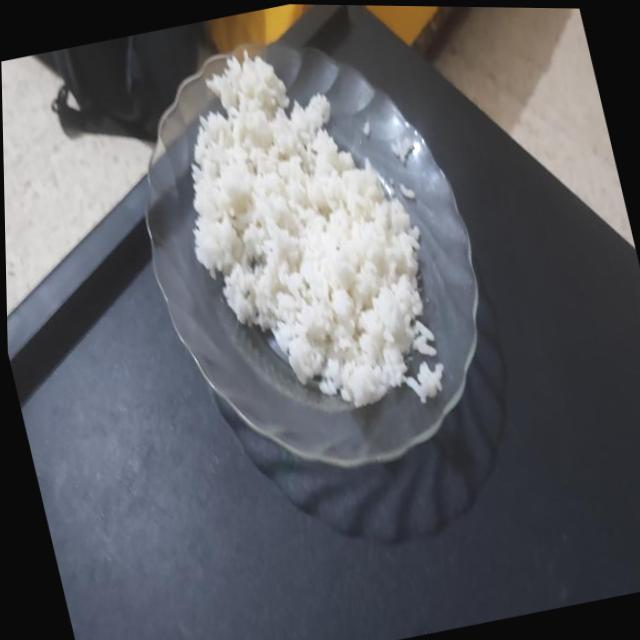nasi_putih: (192, 56, 435, 394)
